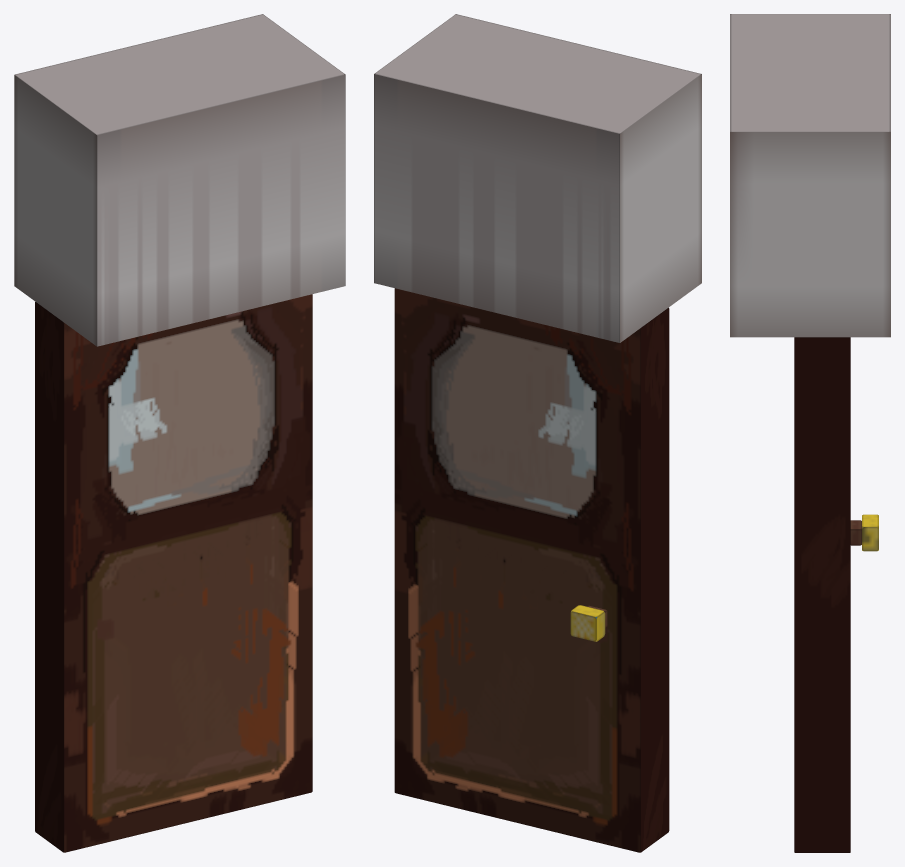
File: UniDoor.obj
3 views of the same model, side by side, from view 1: azimuth 30°, elevation 25°; view 2: azimuth 150°, elevation 25°; view 3: azimuth 270°, elevation 25° (orthographic). The views are drawn at different scales.
Visible parts, largest first — view 1: Door, Door_selection; view 2: Door, Door_selection; view 3: Door_selection, Door.
Boxes of the visible parts, left/top/right/bottom form: Door: left=35, top=294, right=312, bottom=852; Door_selection: left=14, top=14, right=345, bottom=346; Door: left=394, top=288, right=669, bottom=852; Door_selection: left=374, top=14, right=701, bottom=342; Door_selection: left=730, top=14, right=890, bottom=337; Door: left=794, top=337, right=878, bottom=852.
Size of the model in its own units: 3.25 by 9.27 by 1.88.
1 material, 1 textured.
